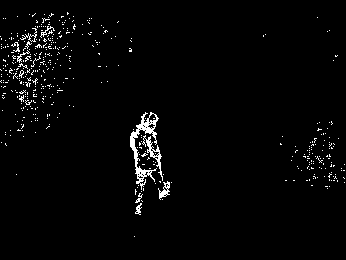person: (126, 110, 172, 218)
